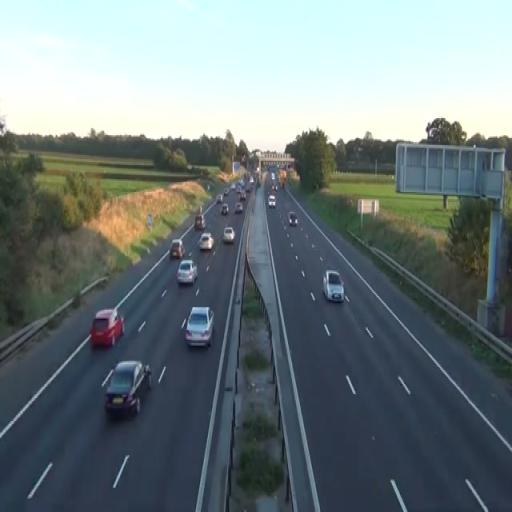Car: (103, 360, 151, 418), (90, 308, 124, 348), (185, 306, 215, 348), (322, 270, 345, 302), (176, 260, 198, 286), (170, 239, 185, 259), (199, 233, 214, 251), (194, 214, 206, 230), (224, 225, 234, 244), (220, 202, 230, 216), (269, 194, 276, 208)
